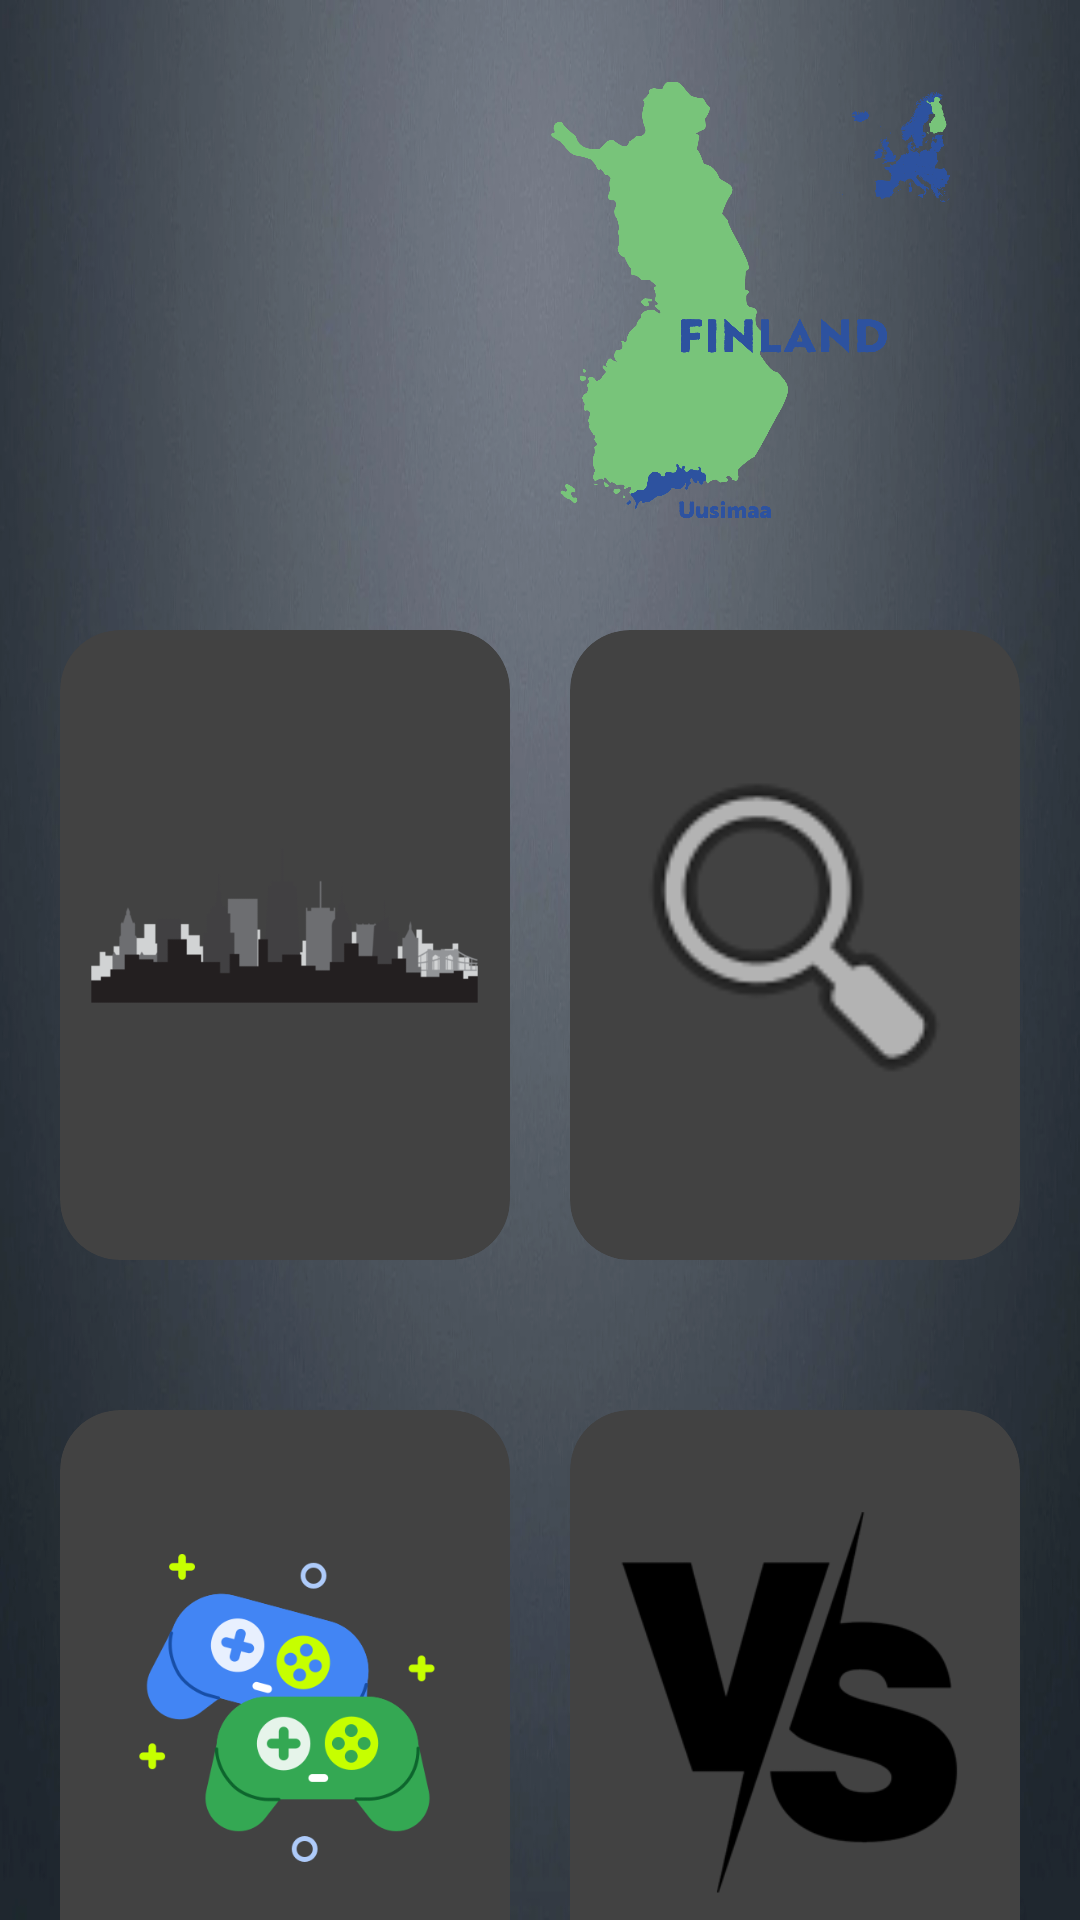

Icons on this 1080×1920 Android screen, each with its box as (x1, y1, x2, y2):
controllers: (139, 1554, 435, 1862)
search: (655, 788, 934, 1066)
